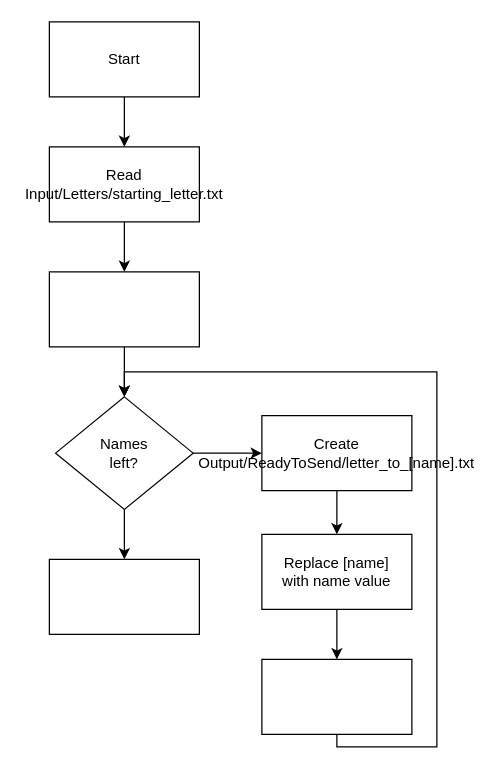
Image size: 496x779. Some labels were removed from this diagram. The shapes that lost their labels are listed below. From the top down, each one's centre as x and y in pixels, then its label:
the point at 123,309: Read Input/Names/invited_names.txt
the point at 123,596: End
the point at 336,696: Close Output/ReadyToSend/letter_to_[name].txt
